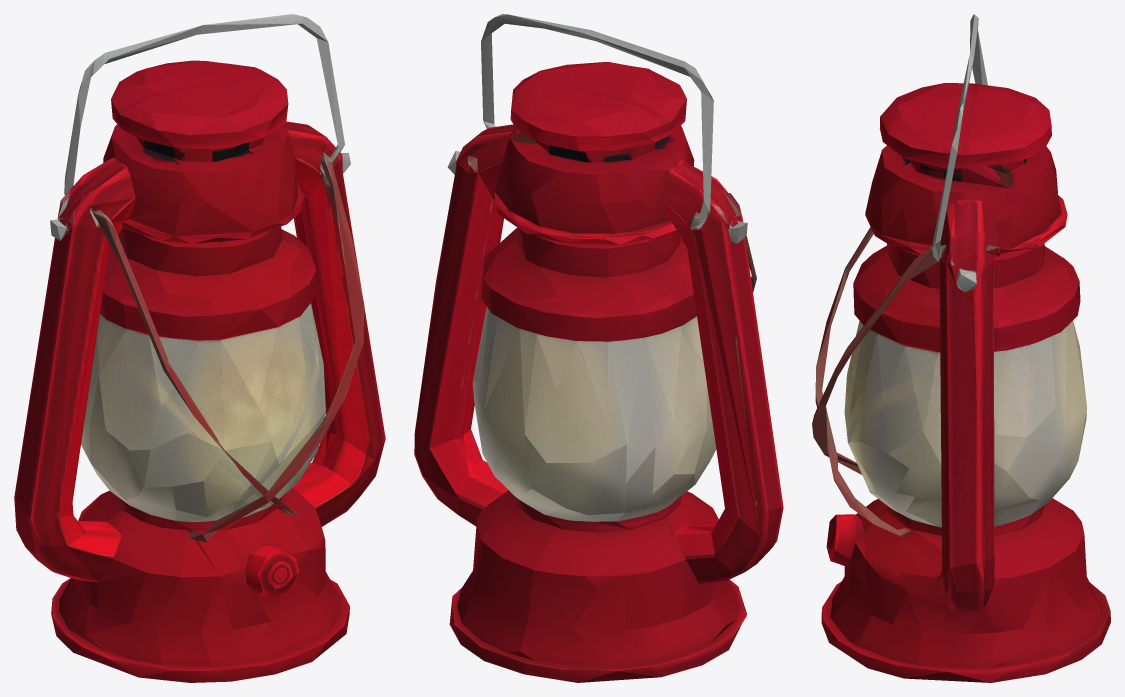
The model's file is camp_lantern.glb.
The picture shows the model from 3 angles, left to right: view 1: azimuth 30°, elevation 25°; view 2: azimuth 150°, elevation 25°; view 3: azimuth 270°, elevation 25°; orthographic projection. The views are drawn at different scales.
Bounding box in the file's own units: 1.2 × 1.9 × 0.8999.
1 material, 1 textured.
